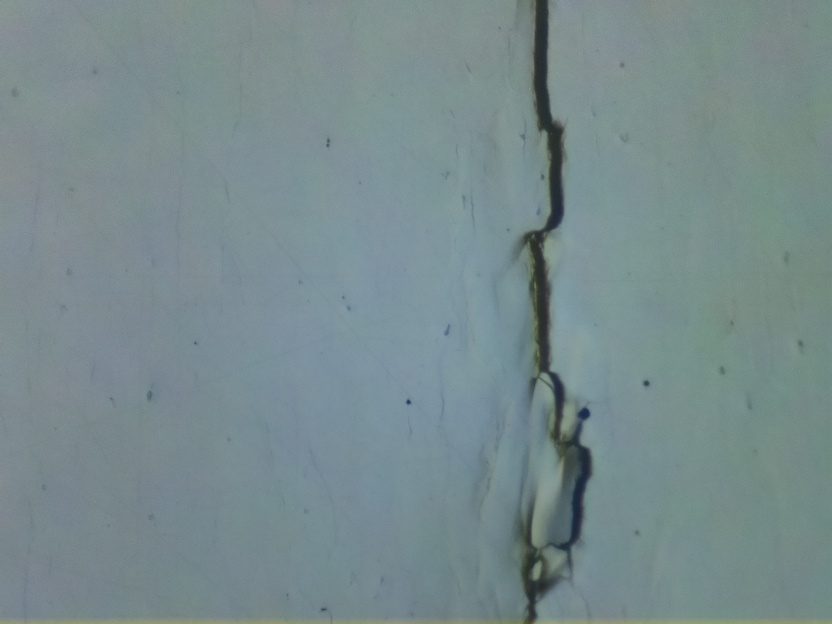crack: (506, 0, 596, 624)
